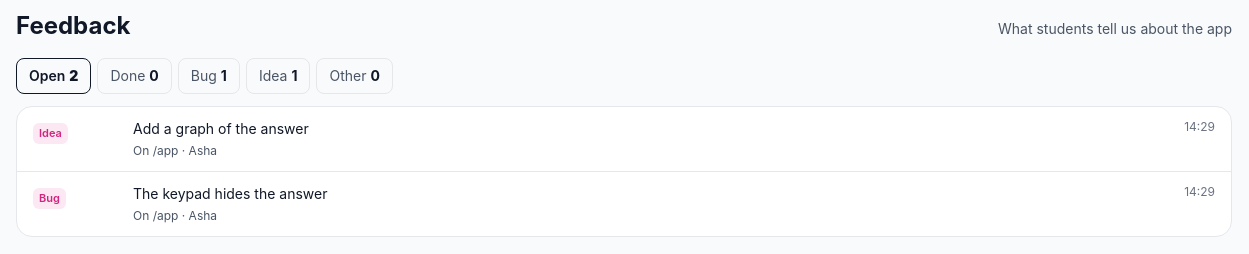
Test: Feedback › filters by type
Check: the text "Add a graph of the answer" is shown, box [133,120,309,137]
Click the link "Bug 1" at (209, 76), box [178,58,240,94]
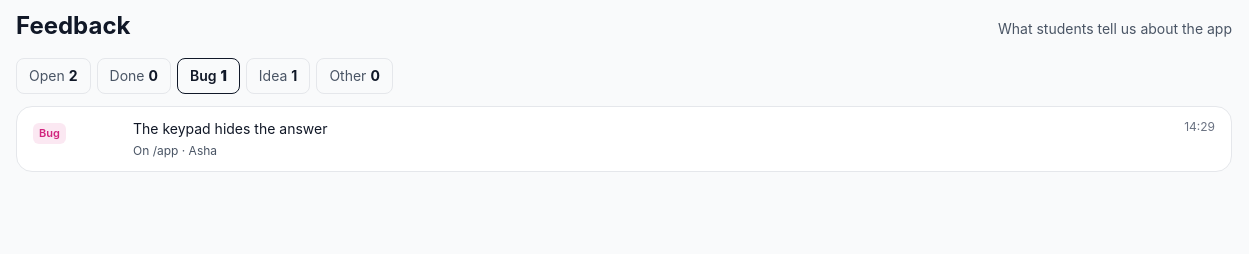
Check: the text "The keypad hides the answer" is shown, box [133,120,328,137]
Check: the link "Add a graph of the answer" is gone
